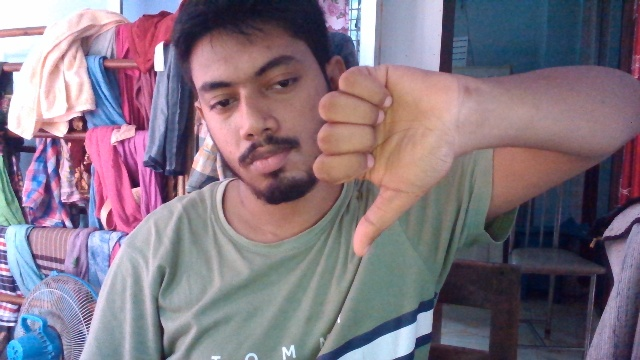no: (300, 51, 461, 262)
